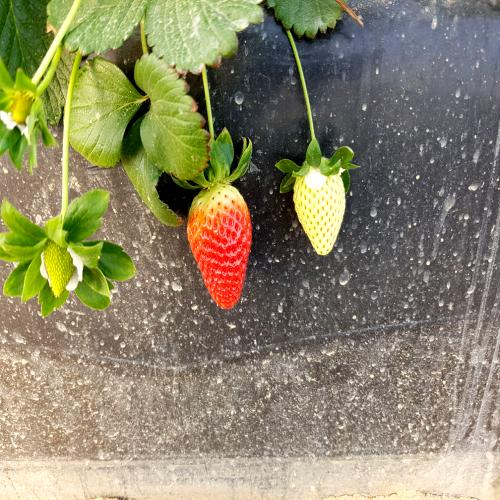ripe: (183, 179, 258, 318)
